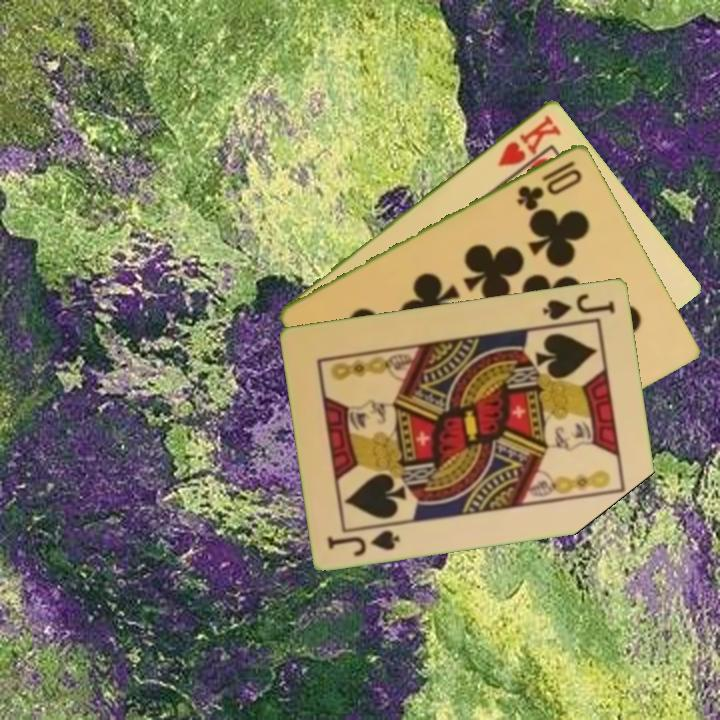10c: (513, 156, 585, 213)
Js: (539, 289, 619, 323), (324, 526, 403, 559)
Kh: (494, 110, 564, 169)
